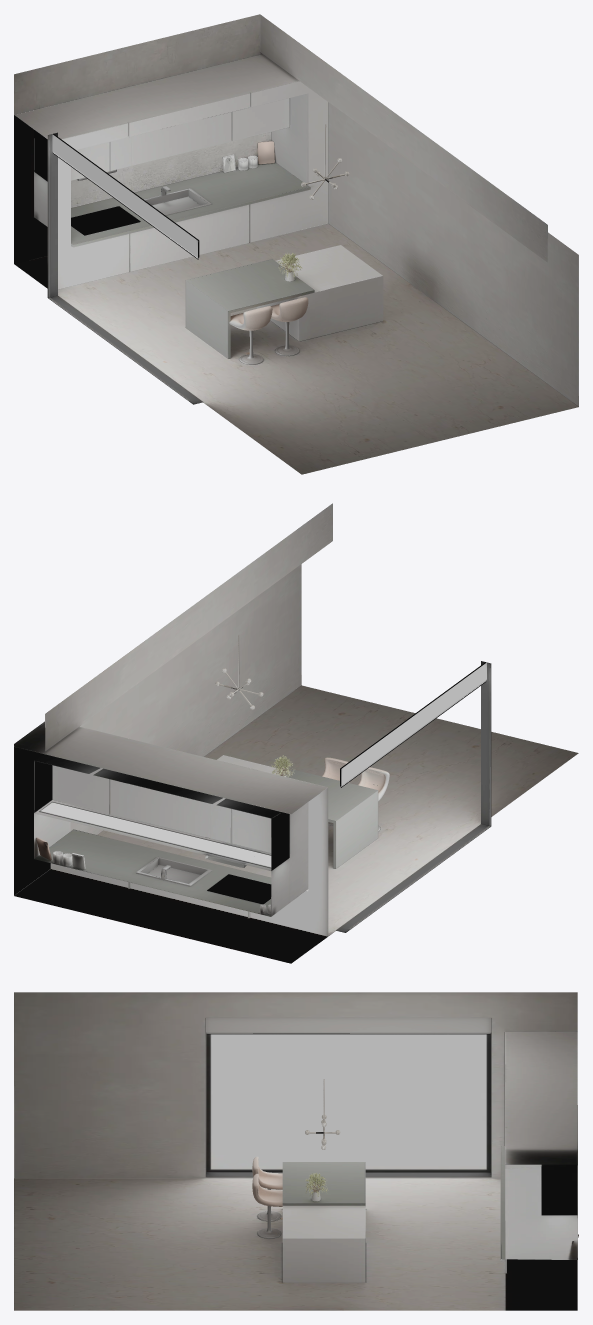
File: kitchen-optimized.glb
The picture shows the model from 3 angles, top to bottom: view 1: azimuth 30°, elevation 25°; view 2: azimuth 150°, elevation 25°; view 3: azimuth 270°, elevation 25°; orthographic projection. The views are drawn at different scales.
Parts seen in each view (by area): view 1: Small Modern Kitchen; view 2: Small Modern Kitchen; view 3: Small Modern Kitchen, Plant.
Part boxes in pixels (left/top/right/bottom): Small Modern Kitchen: left=14, top=14, right=578, bottom=474; Small Modern Kitchen: left=14, top=503, right=578, bottom=963; Small Modern Kitchen: left=14, top=992, right=578, bottom=1310; Plant: left=305, top=1173, right=328, bottom=1201.
Size of the model in its own units: 5.58 by 3.5 by 9.63.
Materials: 12 (11 with a texture image).
